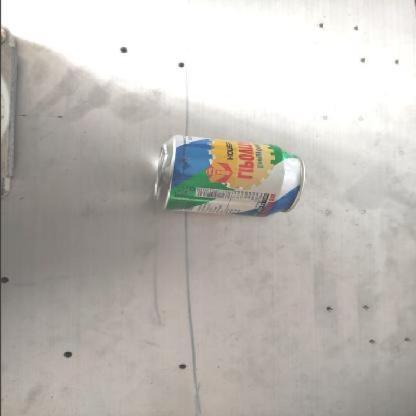Can: (154, 135, 306, 219)
